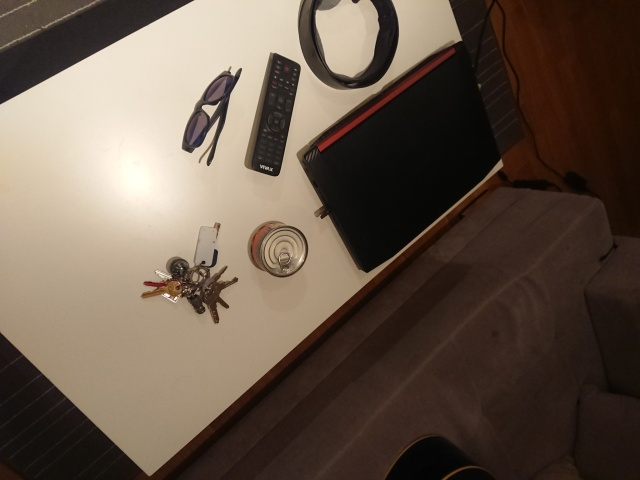Giana Tuna Salad Mexico 185g: (246, 218, 312, 280)
